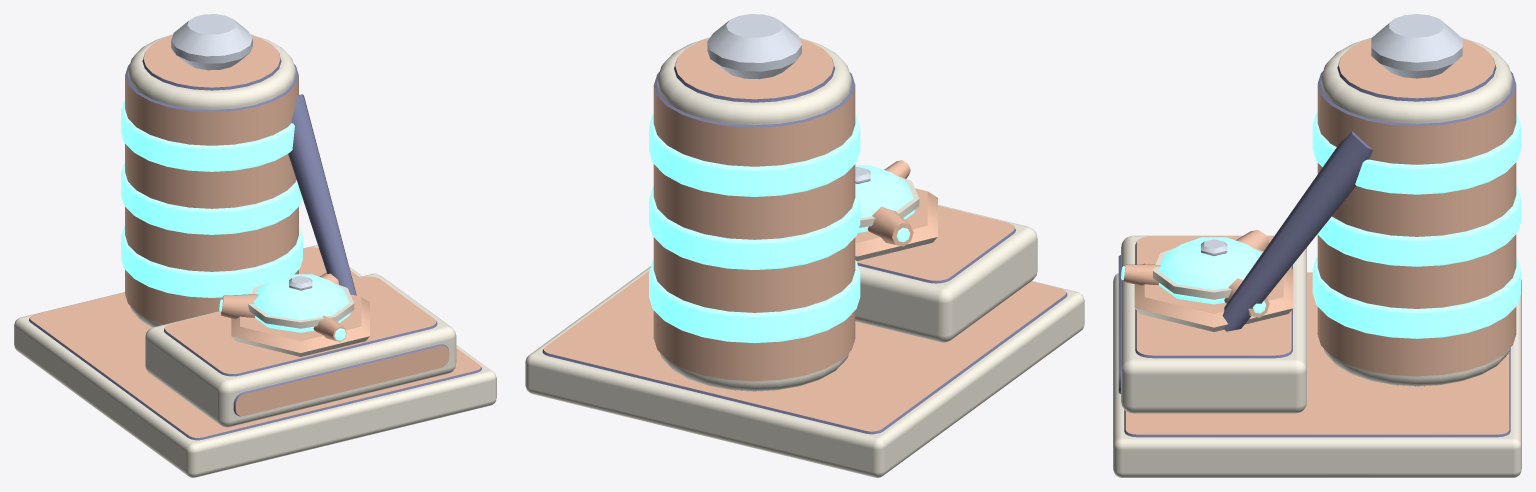
File: R4X_SlowTrapDeployer.fbx
3 renders of one model, left to right at view 1: azimuth 30°, elevation 25°; view 2: azimuth 150°, elevation 25°; view 3: azimuth 270°, elevation 25°, orthographic. The views are drawn at different scales.
Parts seen in each view (by area): view 1: R4X_SlowTrapDeployer_Body, R4X_SlowTrapDeployer_Payload; view 2: R4X_SlowTrapDeployer_Body, R4X_SlowTrapDeployer_Payload; view 3: R4X_SlowTrapDeployer_Body, R4X_SlowTrapDeployer_Payload.
Part boxes in pixels (<box>): R4X_SlowTrapDeployer_Body: <box>14,14,496,477</box>; R4X_SlowTrapDeployer_Payload: <box>219,272,369,356</box>; R4X_SlowTrapDeployer_Body: <box>525,14,1084,477</box>; R4X_SlowTrapDeployer_Payload: <box>855,160,937,260</box>; R4X_SlowTrapDeployer_Body: <box>1113,14,1521,477</box>; R4X_SlowTrapDeployer_Payload: <box>1121,230,1293,331</box>.
Size of the model in its own units: 0.514 by 0.5145 by 0.514.
